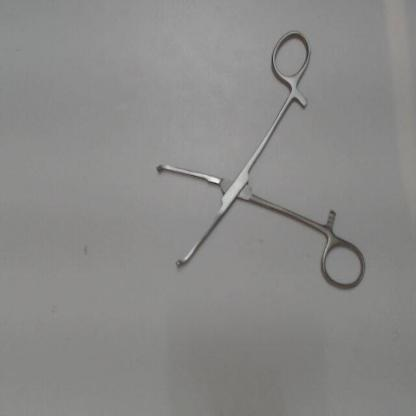Allis Tissue Forceps: (149, 21, 372, 300)
